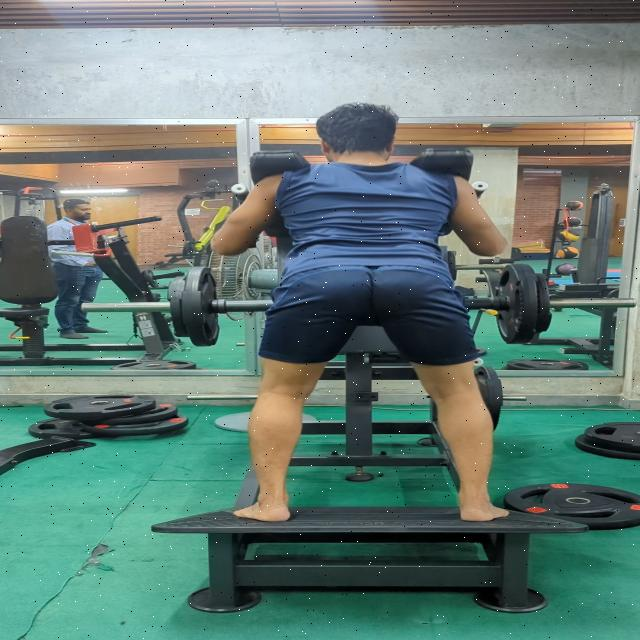Normal_SquatsWithBarbell: (170, 107, 529, 546)
